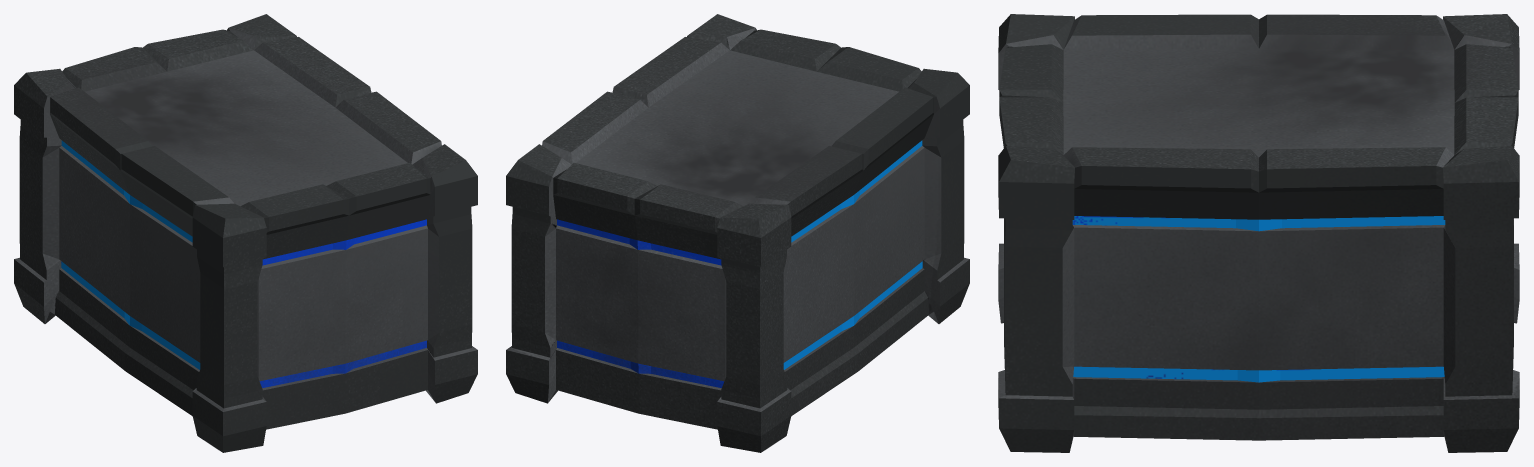
The model's file is Box1bluemesh.fbx.
3 renders of one model, left to right at view 1: azimuth 30°, elevation 25°; view 2: azimuth 150°, elevation 25°; view 3: azimuth 270°, elevation 25°, orthographic. The views are drawn at different scales.
Parts seen in each view (by area): view 1: Cube; view 2: Cube; view 3: Cube.
Boxes of the visible parts, left/top/right/bottom form: Cube: left=14, top=14, right=477, bottom=452; Cube: left=506, top=14, right=969, bottom=452; Cube: left=998, top=14, right=1519, bottom=452.
Bounding box in the file's own units: 204 × 178 × 289.
Materials: 1 (1 with a texture image).
